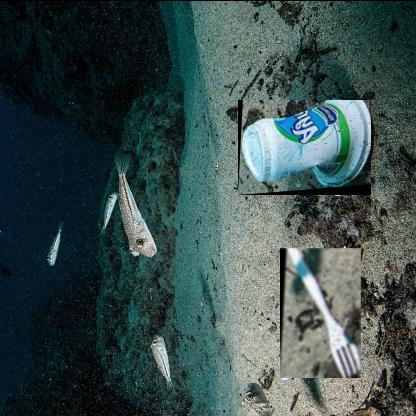waste: (238, 98, 372, 194), (280, 246, 362, 377)
